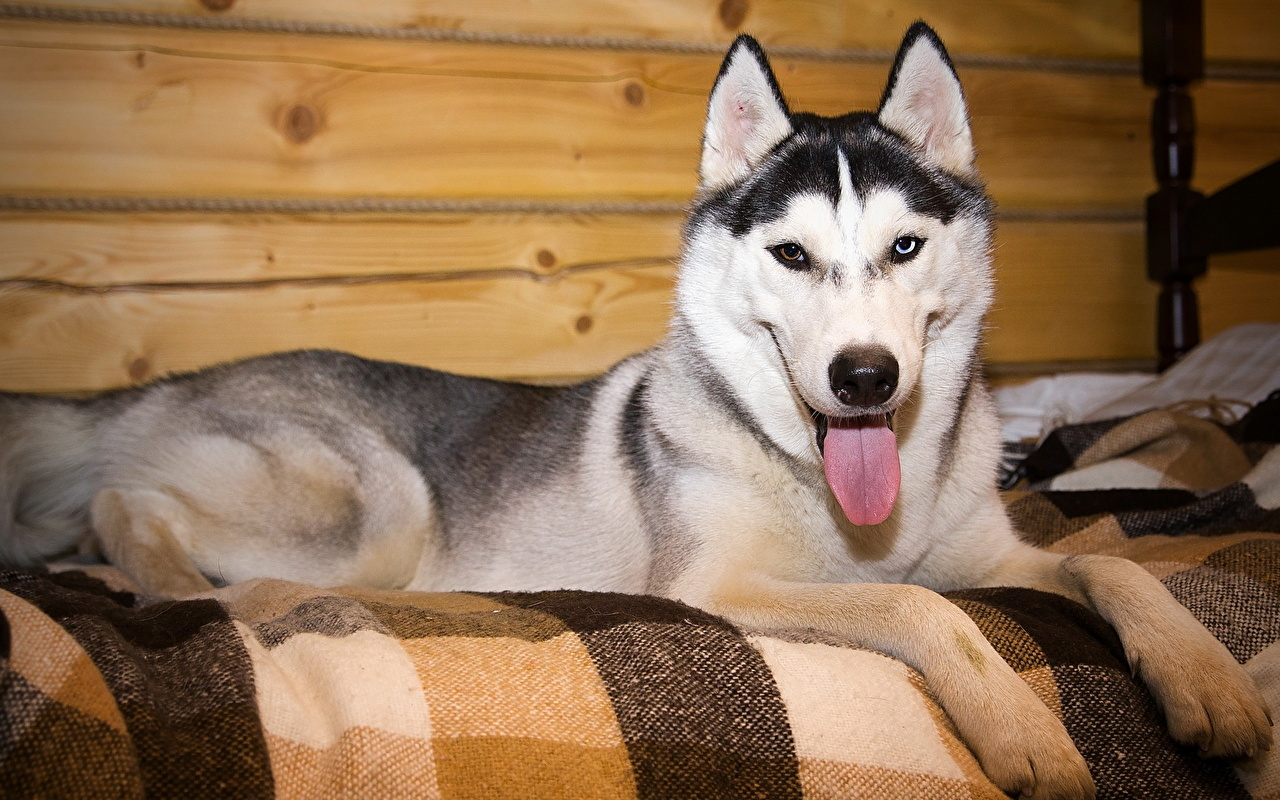husky: (563, 10, 1017, 638)
